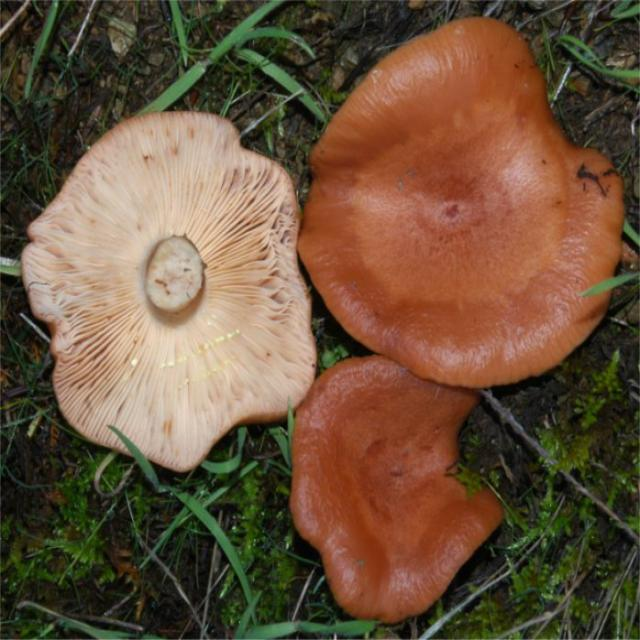Armillaria mellea: (306, 19, 624, 388), (20, 113, 318, 466), (292, 358, 505, 624)
